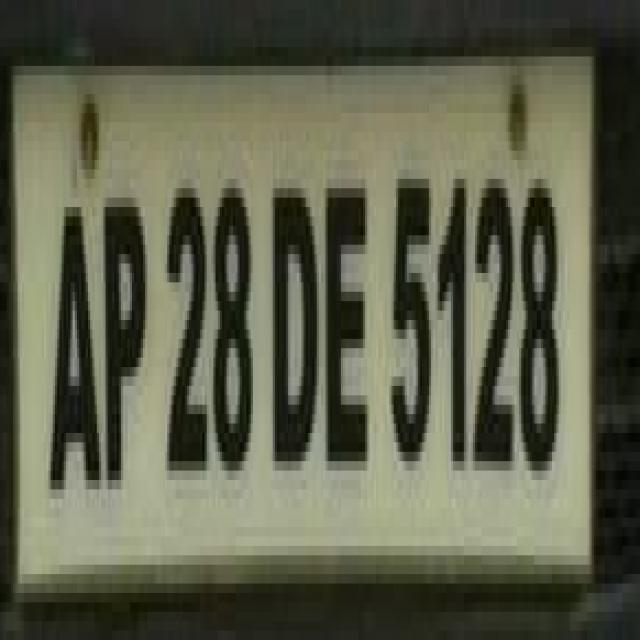license_plate: (6, 19, 602, 630)
